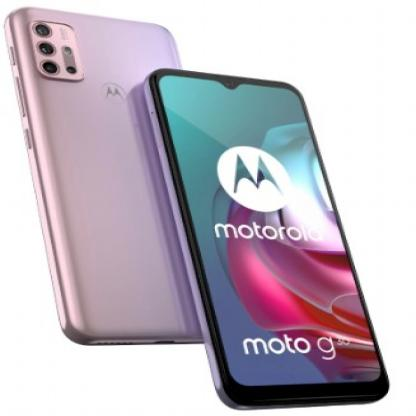SMARTPHONE: (5, 7, 398, 410)
